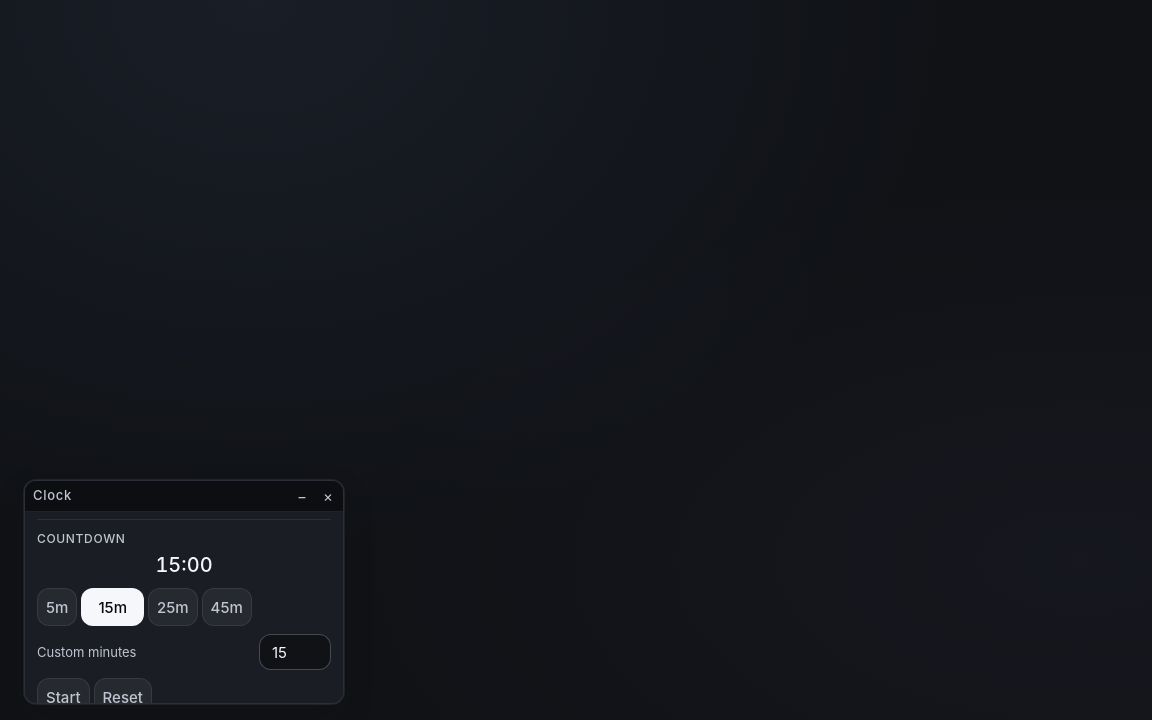
ClockPanel — countdown presets and bounds › pause/resume: a paused countdown does not keep counting down while frozen
(page scrolled)
Click the button "5m": [57, 607] box [37,588,77,626]
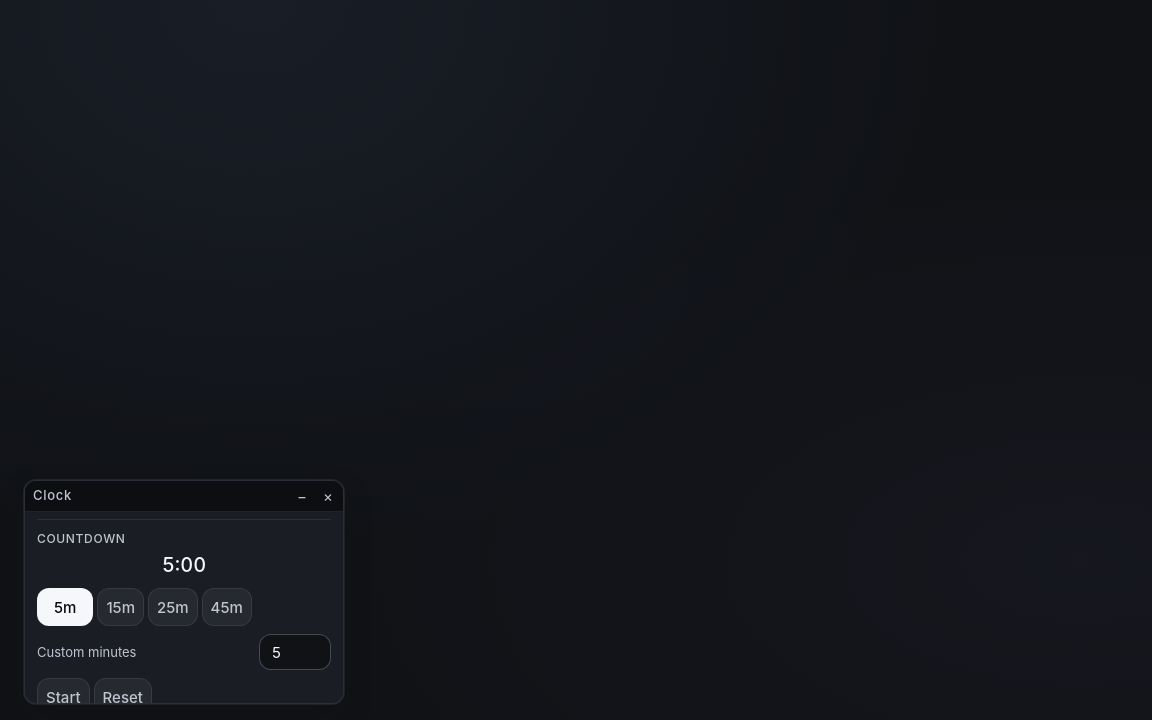
Click the button "Start": [63, 697] box [37,678,90,716]
Wait 60000 ms
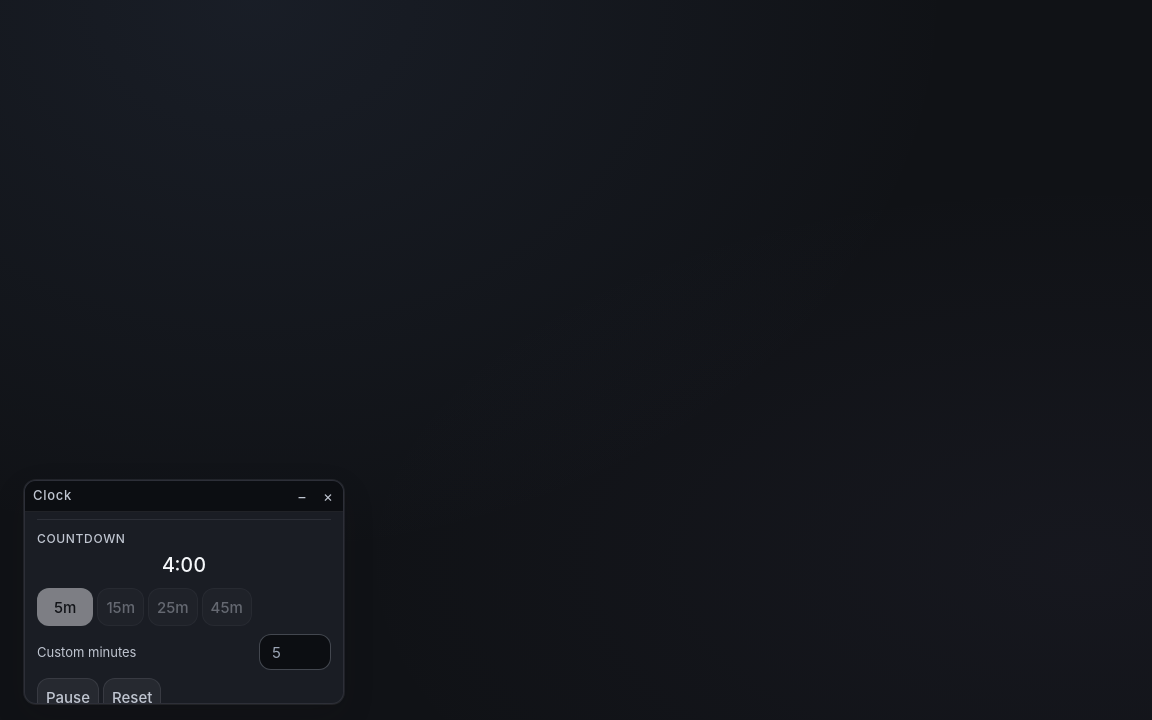
Expected: the text "4:00" is shown, [162,553,206,577]
Click the button "Pause": [68, 697] box [37,678,99,716]
Wait 60000 ms
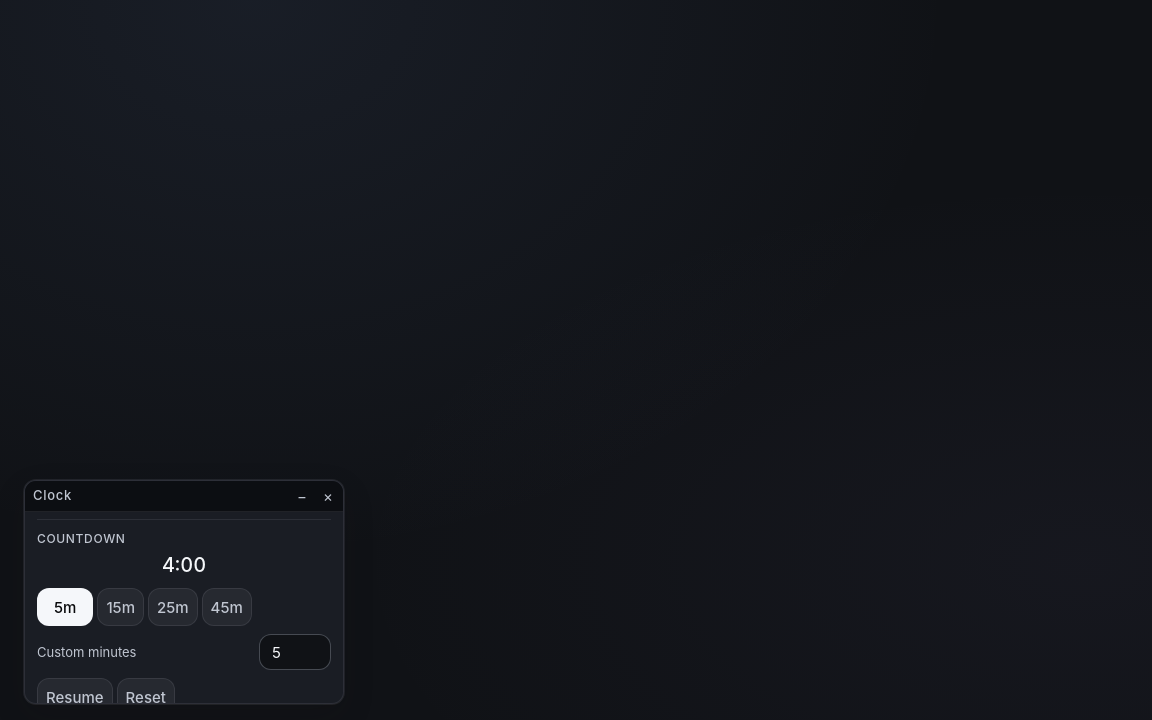
Expected: the text "4:00" is shown, [162,553,206,577]
Click the button "Resume": [75, 697] box [37,678,113,716]
Wait 30000 ms
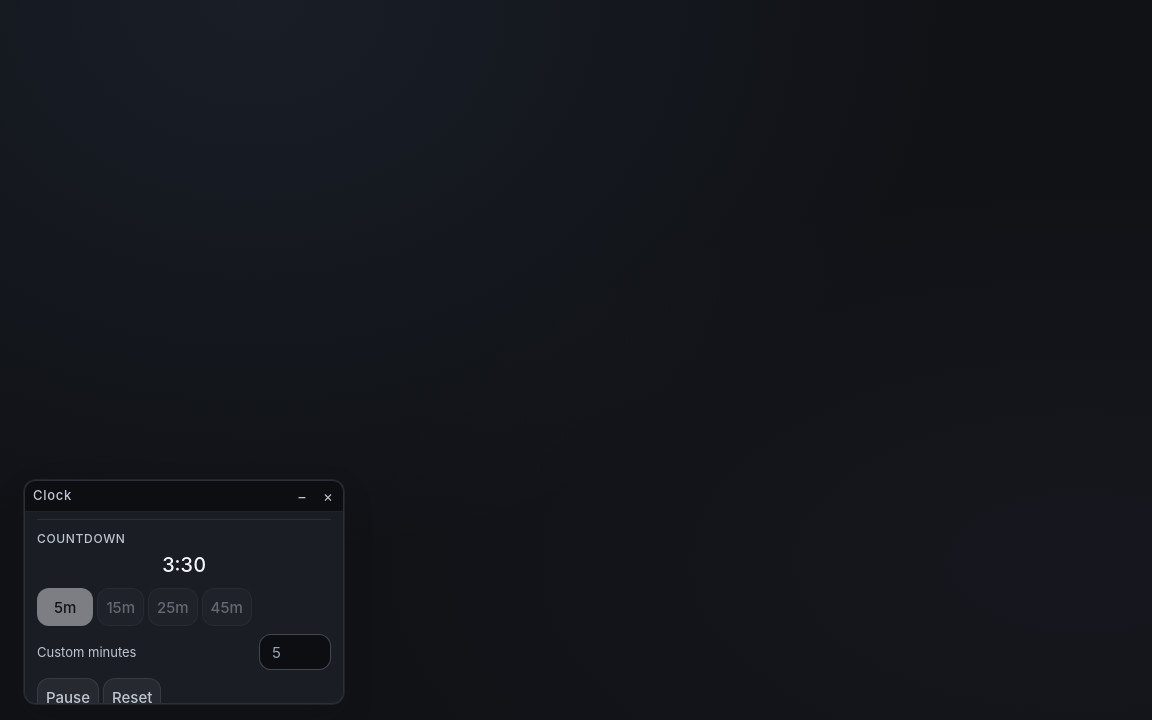
Expected: the text "3:30" is shown, [162,553,206,577]
